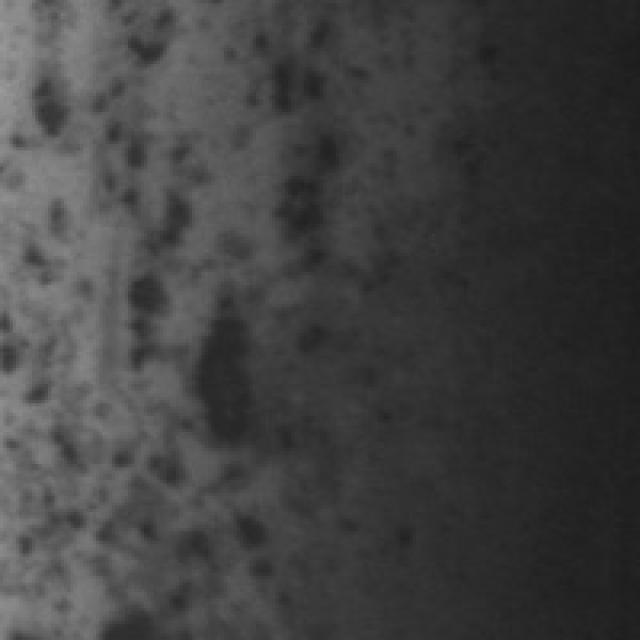pitted_surface: (0, 9, 442, 630)
